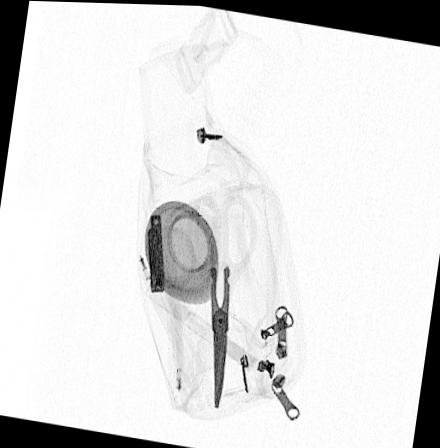Scissors: (185, 191, 258, 409)
